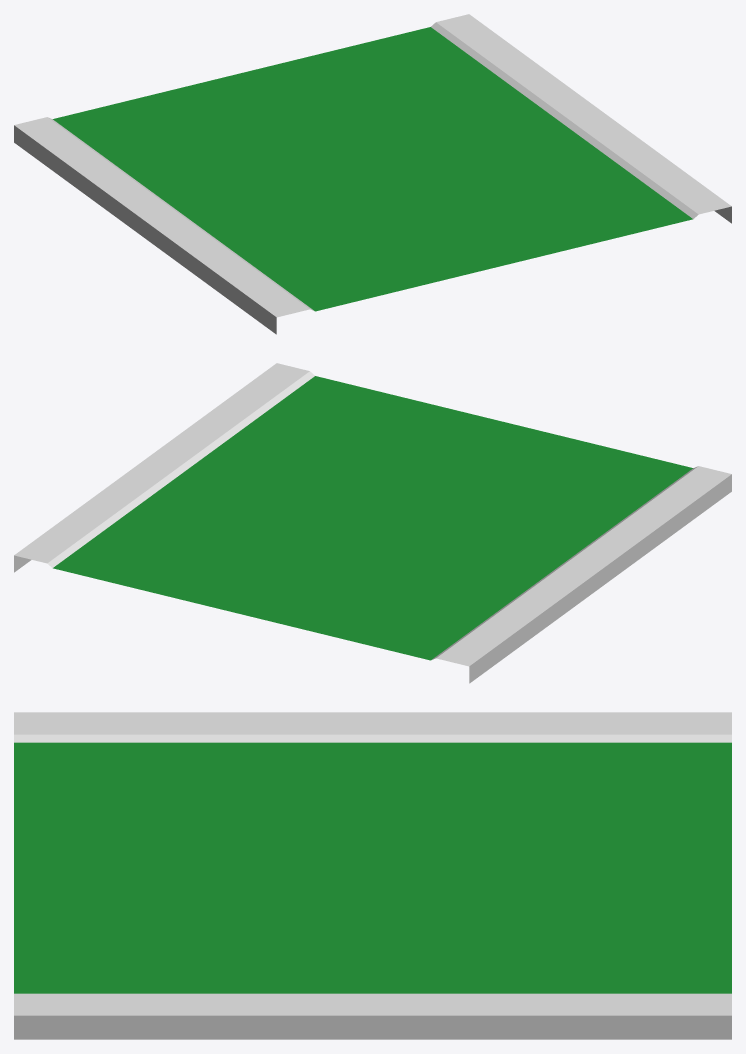
Rendered from GrassBed_1_A_7.fbx.
3 views of the same model, one above another, from view 1: azimuth 30°, elevation 25°; view 2: azimuth 150°, elevation 25°; view 3: azimuth 270°, elevation 25° (orthographic). The views are drawn at different scales.
Visible parts, largest first — view 1: GrassBed_1_A_7; view 2: GrassBed_1_A_7; view 3: GrassBed_1_A_7.
Boxes of the visible parts, left/top/right/bottom form: GrassBed_1_A_7: left=14, top=14, right=731, bottom=334; GrassBed_1_A_7: left=14, top=363, right=731, bottom=683; GrassBed_1_A_7: left=14, top=712, right=731, bottom=1039.
Size of the model in its own units: 200 by 7.32 by 200.
